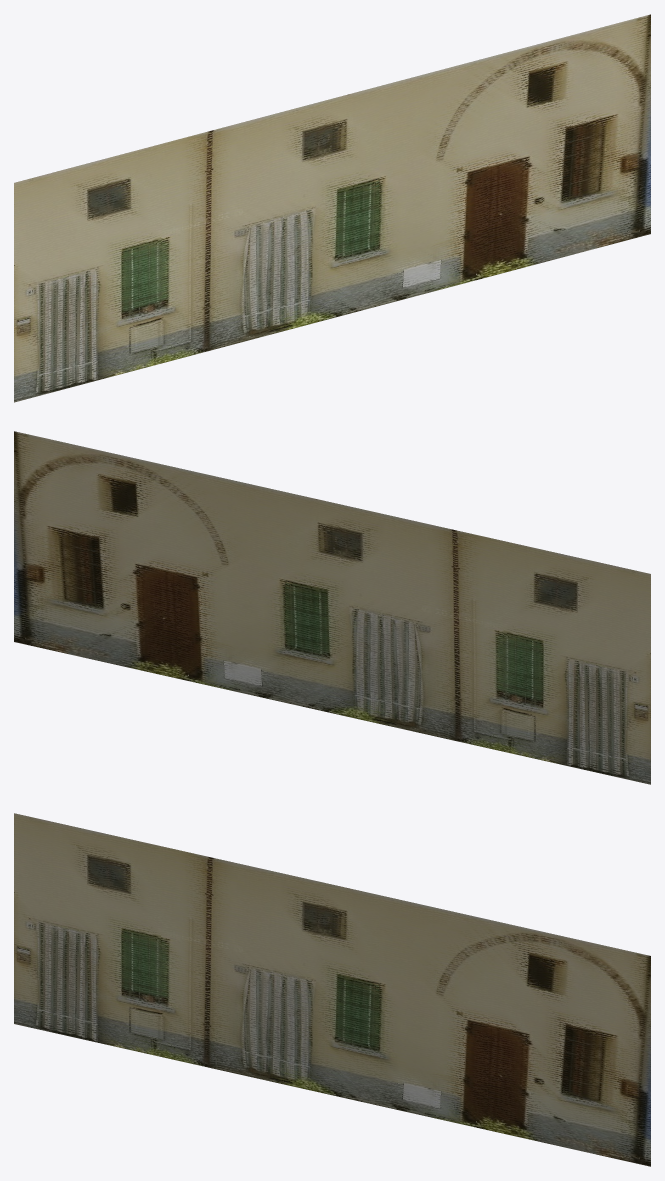
File: piano fotorealistico.glb
The picture shows the model from 3 angles, top to bottom: view 1: azimuth 30°, elevation 25°; view 2: azimuth 150°, elevation 25°; view 3: azimuth 330°, elevation 25°; orthographic projection. The views are drawn at different scales.
Parts seen in each view (by area): view 1: Piano.001; view 2: Piano.001; view 3: Piano.001.
Part boxes in pixels (bbox=[...]): Piano.001: bbox=[14, 14, 650, 402]; Piano.001: bbox=[14, 431, 650, 784]; Piano.001: bbox=[14, 813, 650, 1166].
Bounding box in the file's own units: 15.04 × 4.85 × 0.5384.
1 material, 1 textured.
